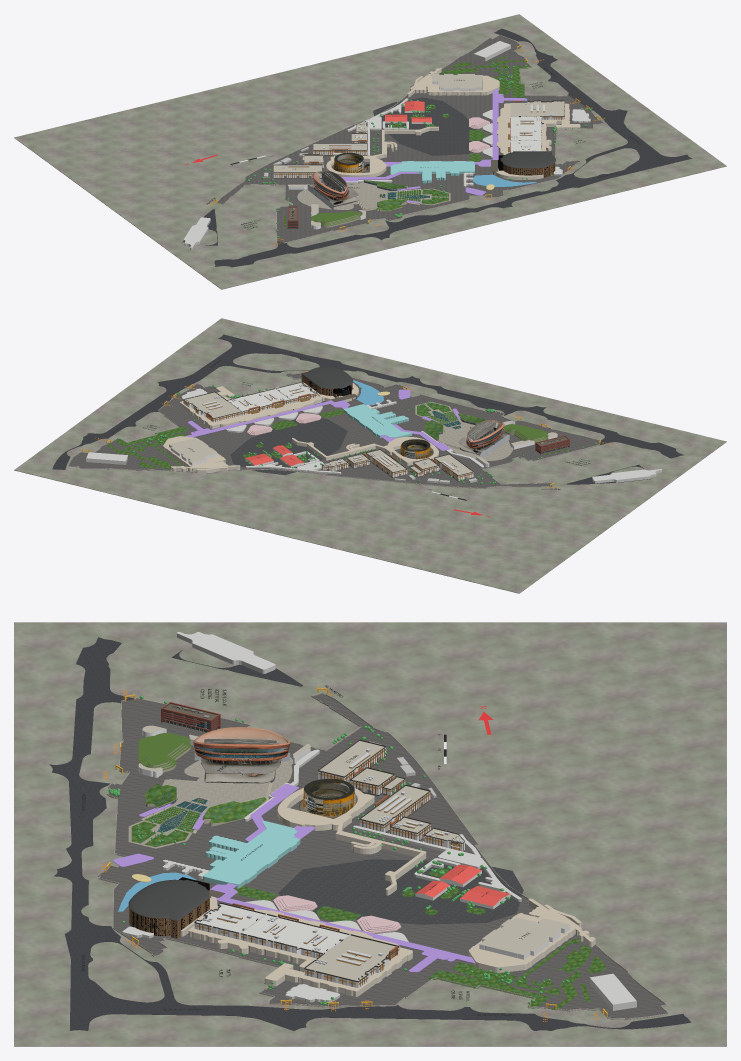
File: IITF_2026_Layout.glb
3 views of the same model, one above another, from view 1: azimuth 30°, elevation 25°; view 2: azimuth 150°, elevation 25°; view 3: azimuth 270°, elevation 25° (orthographic). The views are drawn at different scales.
Parts seen in each view (by area): view 1: CONTEXT_GROUND, SITE_GROUND, ROADS, YARD_HANGARS_ASPHALT, LAWNS, FOYER_ANNEX_HALLS_1-5, CC_Building, TRUSS_WALKWAY_CANOPY, BOUNDARY_WALL, ENTRANCE_TICKETING_PLAZA, FOYER_ANNEX_HALL_14, FOYER_ANNEX_HALL_6 (+13 smaller); view 2: CONTEXT_GROUND, SITE_GROUND, ROADS, YARD_HANGARS_ASPHALT, BOUNDARY_WALL, LAWNS, FOYER_ANNEX_HALLS_1-5, TRUSS_WALKWAY_CANOPY, ENTRANCE_TICKETING_PLAZA, CC_Building, FOYER_ANNEX_HALL_14, FOYER_ANNEX_HALL_6 (+15 smaller); view 3: CONTEXT_GROUND, SITE_GROUND, ROADS, YARD_HANGARS_ASPHALT, LAWNS, CC_Building, FOYER_ANNEX_HALLS_1-5, ENTRANCE_TICKETING_PLAZA, FOYER_ANNEX_HALL_14, TRUSS_WALKWAY_CANOPY, FOYER_ANNEX_HALL_6, BOUNDARY_WALL (+25 smaller).
Part boxes in pixels (x1=…): CONTEXT_GROUND: x1=14, y1=14, x2=726, y2=289; SITE_GROUND: x1=218, y1=36, x2=602, y2=242; ROADS: x1=182, y1=28, x2=692, y2=267; YARD_HANGARS_ASPHALT: x1=373, y1=97, x2=482, y2=155; LAWNS: x1=284, y1=56, x2=532, y2=227; FOYER_ANNEX_HALLS_1-5: x1=492, y1=103, x2=580, y2=179; CC_Building: x1=307, y1=171, x2=359, y2=209; TRUSS_WALKWAY_CANOPY: x1=341, y1=88, x2=527, y2=203; BOUNDARY_WALL: x1=218, y1=35, x2=603, y2=243; ENTRANCE_TICKETING_PLAZA: x1=390, y1=161, x2=474, y2=183; FOYER_ANNEX_HALL_14: x1=326, y1=126, x2=438, y2=176; FOYER_ANNEX_HALL_6: x1=407, y1=68, x2=499, y2=97; CONTEXT_GROUND: x1=14, y1=318, x2=726, y2=593; SITE_GROUND: x1=69, y1=373, x2=600, y2=488; ROADS: x1=52, y1=334, x2=683, y2=484; YARD_HANGARS_ASPHALT: x1=230, y1=418, x2=347, y2=474; BOUNDARY_WALL: x1=68, y1=373, x2=599, y2=488; LAWNS: x1=106, y1=409, x2=568, y2=469; FOYER_ANNEX_HALLS_1-5: x1=180, y1=382, x2=358, y2=428; TRUSS_WALKWAY_CANOPY: x1=185, y1=389, x2=460, y2=450; ENTRANCE_TICKETING_PLAZA: x1=343, y1=404, x2=412, y2=438; CC_Building: x1=458, y1=420, x2=509, y2=457; FOYER_ANNEX_HALL_14: x1=292, y1=437, x2=438, y2=465; FOYER_ANNEX_HALL_6: x1=163, y1=436, x2=240, y2=473; CONTEXT_GROUND: x1=14, y1=622, x2=726, y2=1046; SITE_GROUND: x1=98, y1=693, x2=667, y2=1019; ROADS: x1=49, y1=637, x2=691, y2=1030; YARD_HANGARS_ASPHALT: x1=278, y1=859, x2=523, y2=924; LAWNS: x1=235, y1=868, x2=605, y2=1010; CC_Building: x1=193, y1=727, x2=290, y2=783; FOYER_ANNEX_HALLS_1-5: x1=180, y1=896, x2=412, y2=996; ENTRANCE_TICKETING_PLAZA: x1=203, y1=821, x2=300, y2=888; FOYER_ANNEX_HALL_14: x1=277, y1=787, x2=426, y2=895; TRUSS_WALKWAY_CANOPY: x1=113, y1=784, x2=475, y2=972; FOYER_ANNEX_HALL_6: x1=468, y1=898, x2=595, y2=972; BOUNDARY_WALL: x1=97, y1=693, x2=668, y2=1019.
Bounding box in the file's own units: 1442 × 53.93 × 1026.
Materials: 69 (19 with a texture image).
